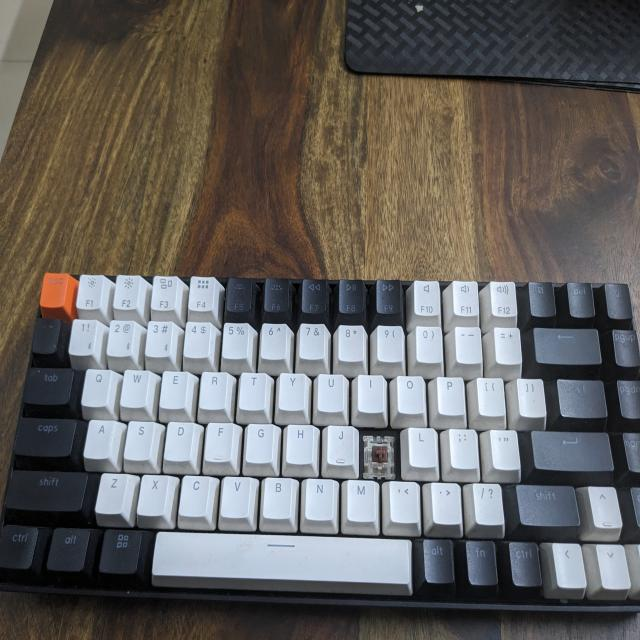C: (360, 431, 396, 477)
